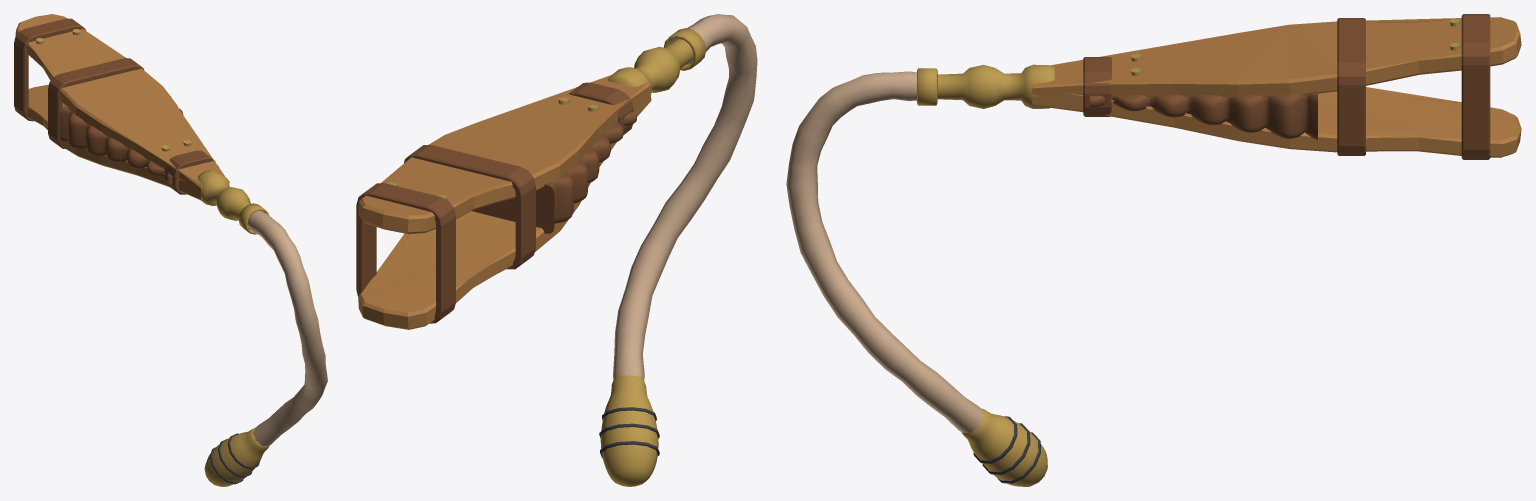
File: tool_handpump.fbx
The picture shows the model from 3 angles, left to right: view 1: azimuth 30°, elevation 25°; view 2: azimuth 150°, elevation 25°; view 3: azimuth 270°, elevation 25°; orthographic projection. The views are drawn at different scales.
Visible parts, largest first — view 1: Tool_HandPump_BoardUpper, Tool_HandPump_Hose, Tool_HandPump_Leather, Tool_HandPump_Bag, Tool_HandPump_Strainer, Tool_HandPump_Nozzle, Tool_HandPump_BoardLower; view 2: Tool_HandPump_BoardUpper, Tool_HandPump_Hose, Tool_HandPump_BoardLower, Tool_HandPump_Leather, Tool_HandPump_Strainer, Tool_HandPump_Bag, Tool_HandPump_Nozzle; view 3: Tool_HandPump_BoardUpper, Tool_HandPump_Hose, Tool_HandPump_BoardLower, Tool_HandPump_Leather, Tool_HandPump_Bag, Tool_HandPump_Nozzle, Tool_HandPump_Strainer.
Boxes of the visible parts, x1,y1,x2,y2 form: Tool_HandPump_BoardUpper: (15,14,229,192); Tool_HandPump_Hose: (247,210,327,446); Tool_HandPump_Leather: (14,18,215,194); Tool_HandPump_Bag: (59,96,218,184); Tool_HandPump_Strainer: (204,427,269,486); Tool_HandPump_Nozzle: (198,170,268,234); Tool_HandPump_BoardLower: (27,84,202,200); Tool_HandPump_BoardUpper: (358,75,651,233); Tool_HandPump_Hose: (613,14,757,380); Tool_HandPump_BoardLower: (358,95,651,329); Tool_HandPump_Leather: (356,82,633,323); Tool_HandPump_Strainer: (599,375,659,486); Tool_HandPump_Bag: (472,111,636,233); Tool_HandPump_Nozzle: (608,28,706,95); Tool_HandPump_BoardUpper: (1031,17,1521,97); Tool_HandPump_Hose: (786,71,983,433); Tool_HandPump_BoardLower: (1031,87,1521,157); Tool_HandPump_Leather: (1083,14,1490,159); Tool_HandPump_Bag: (1090,90,1317,140); Tool_HandPump_Nozzle: (917,64,1054,108); Tool_HandPump_Strainer: (961,408,1047,486).
Size of the model in its own units: 12.29 by 38.59 by 56.75.
